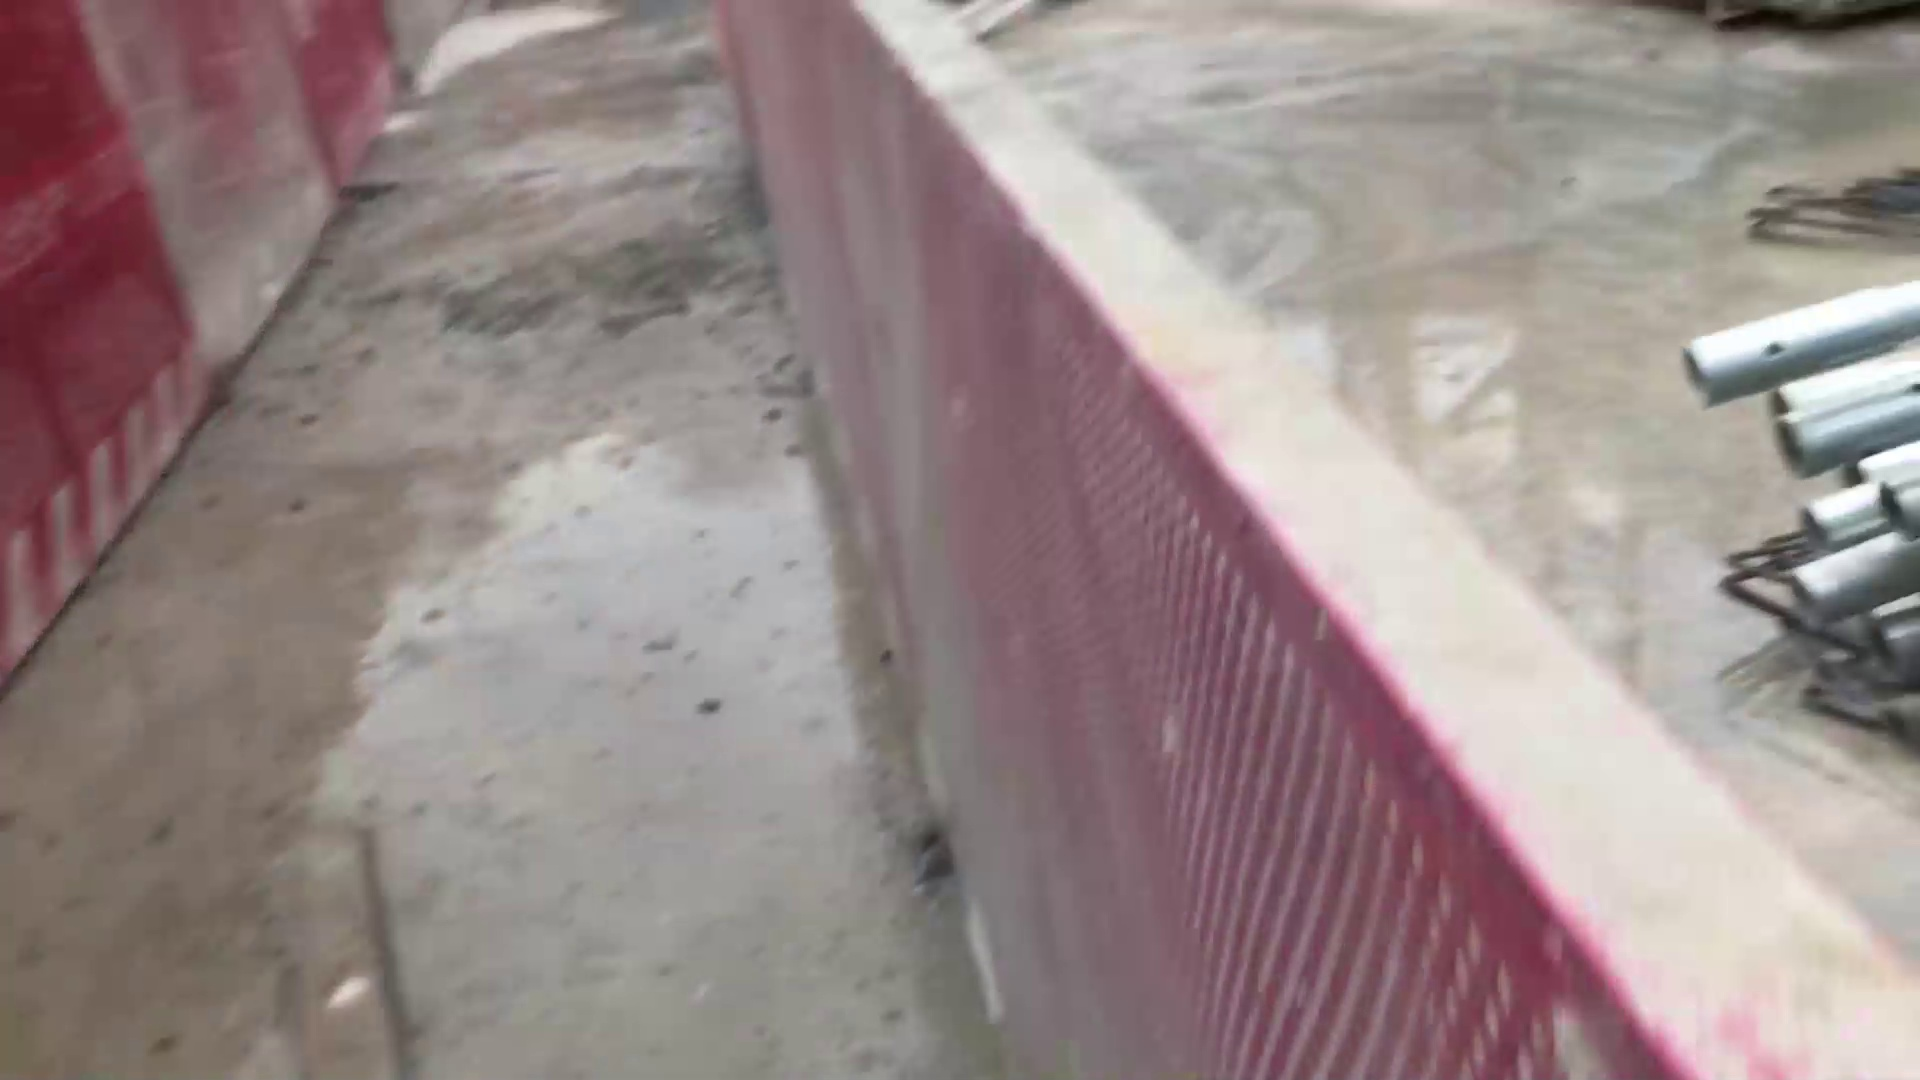fence: (858, 287, 1791, 1073)
